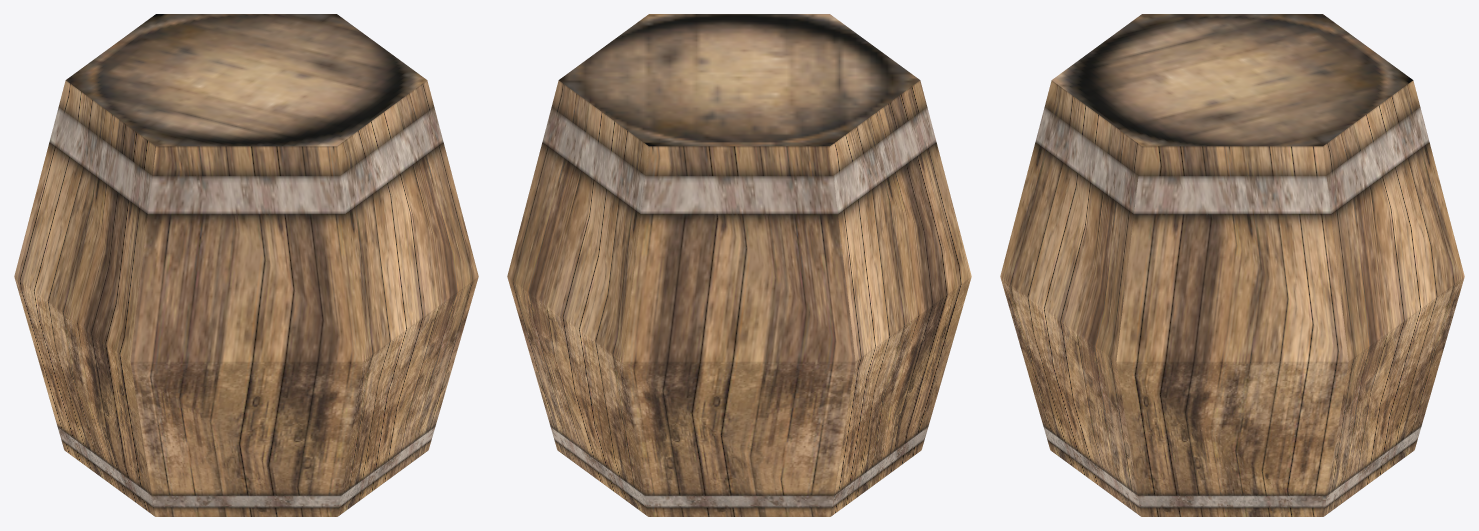
Rendered from wooden_barrel.glb.
The picture shows the model from 3 angles, left to right: view 1: azimuth 30°, elevation 25°; view 2: azimuth 150°, elevation 25°; view 3: azimuth 270°, elevation 25°; orthographic projection.
Parts seen in each view (by area): view 1: Cylinder; view 2: Cylinder; view 3: Cylinder.
Boxes of the visible parts, bbox=[...] form: Cylinder: bbox=[14, 14, 478, 516]; Cylinder: bbox=[507, 14, 971, 516]; Cylinder: bbox=[1000, 14, 1464, 516].
Bounding box in the file's own units: 1.02 × 1.03 × 1.17.
Materials: 1 (1 with a texture image).
